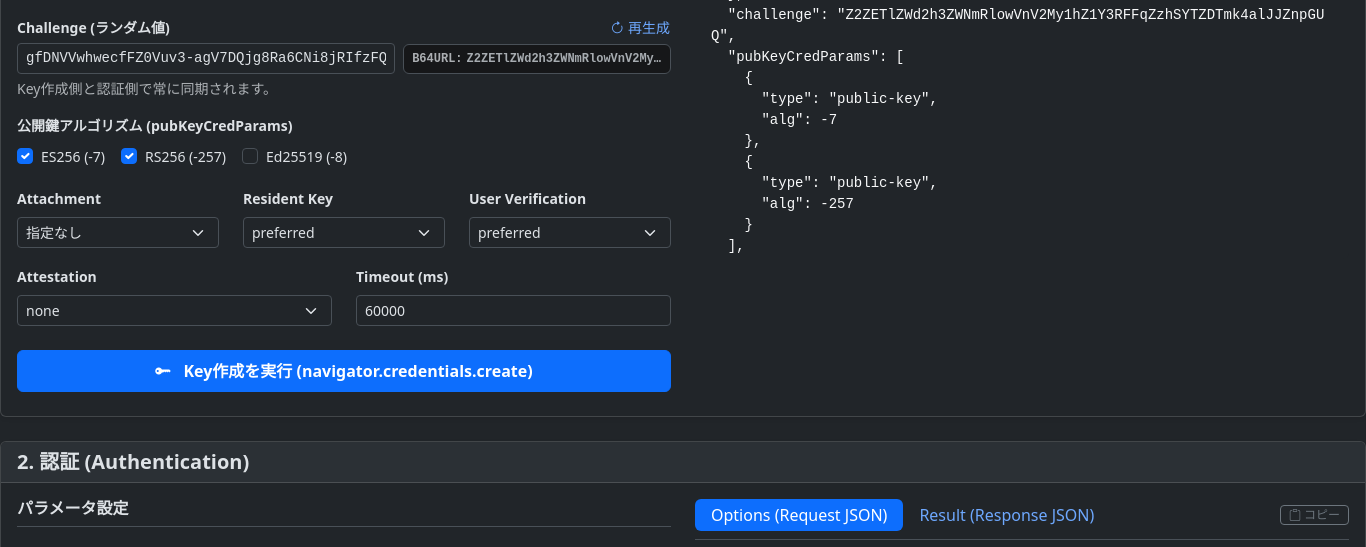
Test case: DevelopFido.vue › displays WebView guidance when NotSupportedError is thrown
(page scrolled)
Click the button with id "btnCreateCredential".
click(344, 371)  # box top-left (17, 350), bottom-right (671, 392)
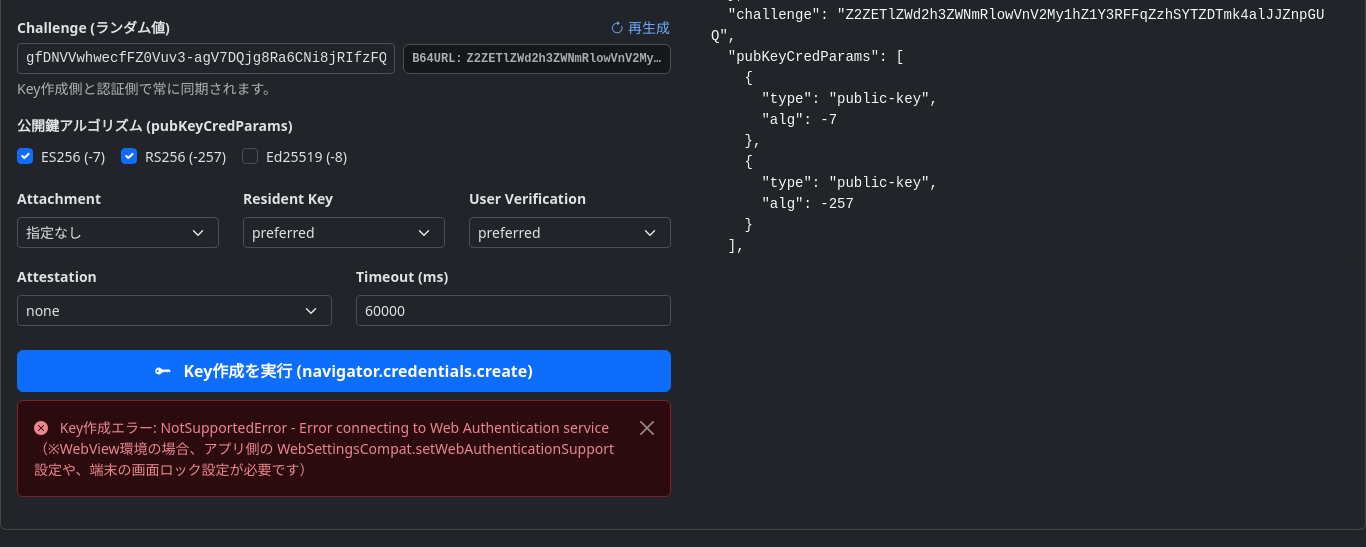
Check: the text "Key作成エラー" is shown, box top-left (34, 418), bottom-right (614, 479)
Check: the text "WebSettingsCompat.setWebAuthenticationSupport 設定や、端末の画面ロック設定が必要です" is shown, box top-left (34, 418), bottom-right (614, 479)
